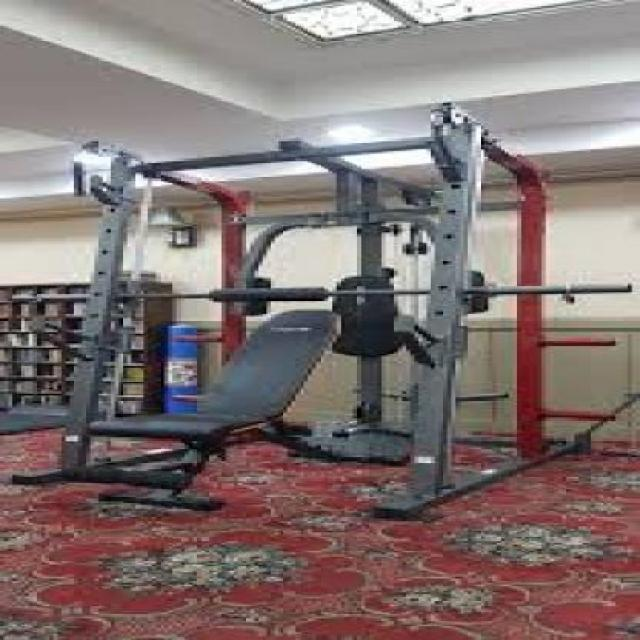smith machine: (77, 103, 631, 520)
